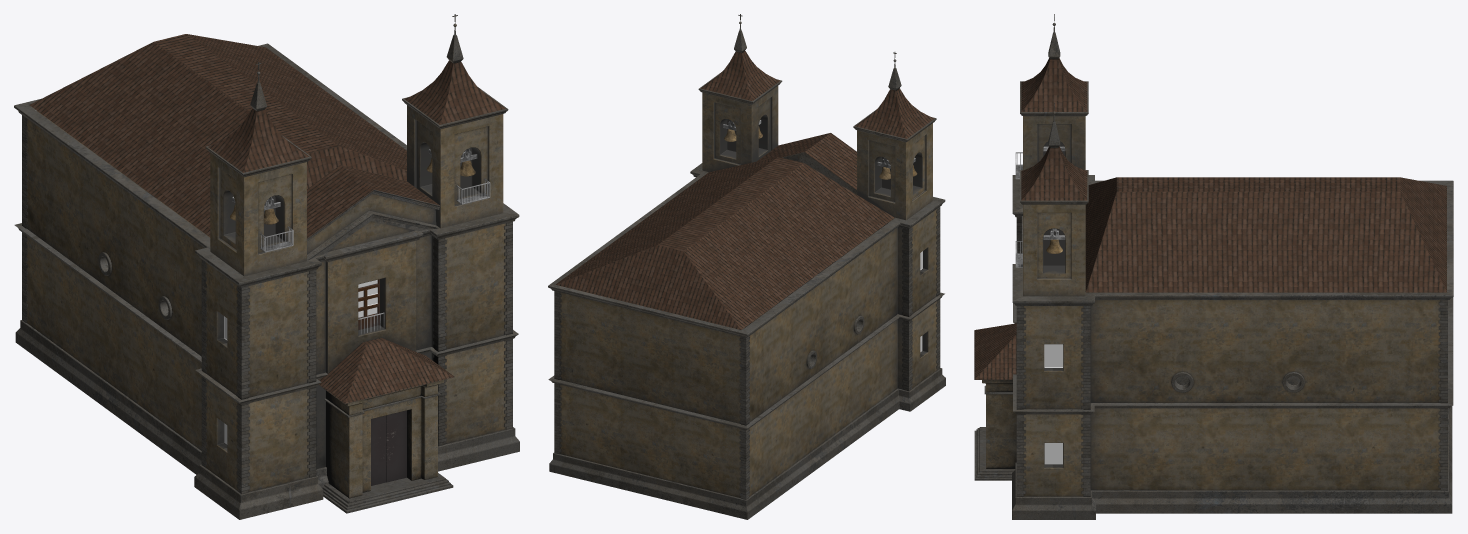
The model's file is IglesiaDolores_02.fbx.
The picture shows the model from 3 angles, left to right: view 1: azimuth 30°, elevation 25°; view 2: azimuth 150°, elevation 25°; view 3: azimuth 270°, elevation 25°; orthographic projection. The views are drawn at different scales.
Visible parts, largest first — view 1: SM_IglesiaDolores; view 2: SM_IglesiaDolores; view 3: SM_IglesiaDolores.
Boxes of the visible parts, bbox=[...] form: SM_IglesiaDolores: bbox=[14, 14, 519, 519]; SM_IglesiaDolores: bbox=[548, 14, 945, 519]; SM_IglesiaDolores: bbox=[974, 14, 1453, 519].
Size of the model in its own units: 759 by 1113 by 1214.
